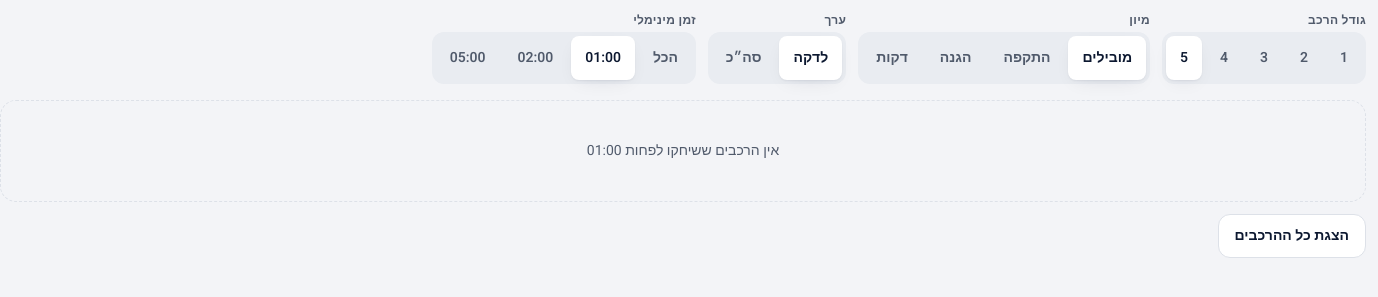
it: LineupStats › filtered-empty state offers showing all
Click the button "הצגת כל ההרכבים".
click(1292, 236)  # box [1218,214,1366,258]
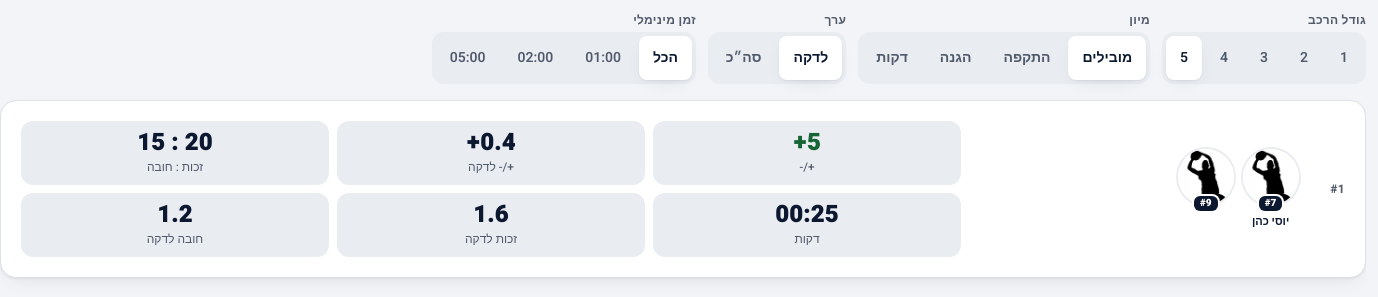
Now the number of list items is 1, box [0,100,1366,278]
